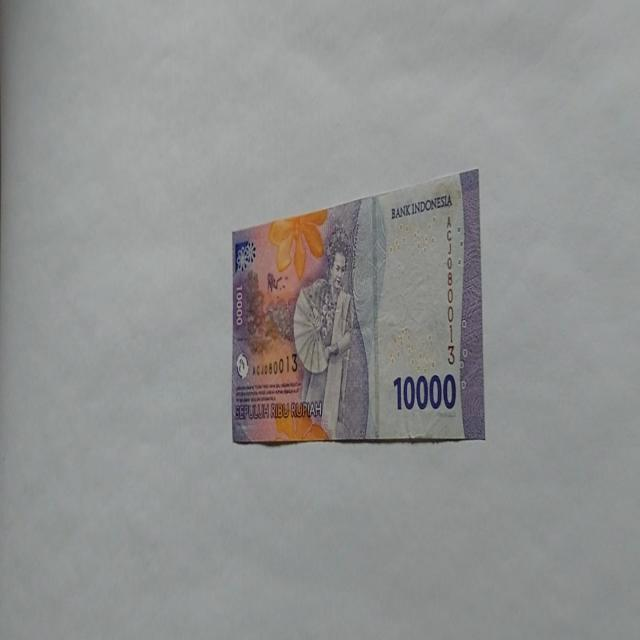sepuluh ribu rupiah: (230, 167, 486, 446)
